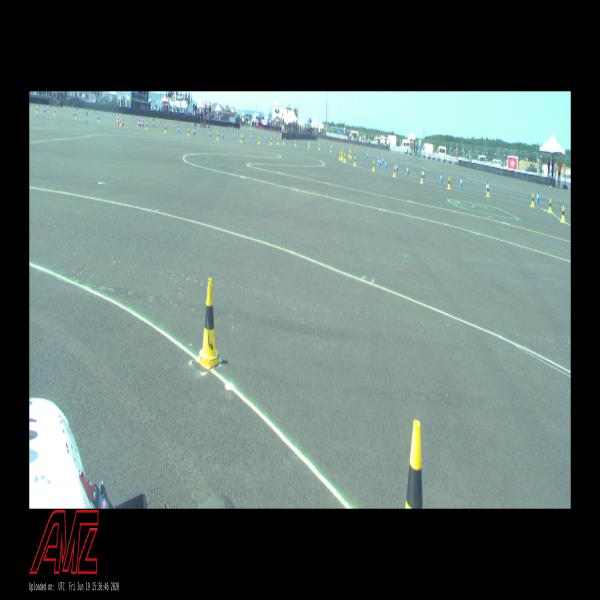blue_cone: (536, 191, 539, 202), (440, 172, 442, 183), (486, 181, 488, 192), (460, 177, 462, 187), (422, 168, 424, 178), (396, 162, 398, 172), (407, 165, 409, 174), (385, 160, 387, 168), (234, 132, 236, 140), (378, 157, 380, 165), (379, 158, 381, 166), (382, 156, 384, 164), (193, 128, 195, 135), (222, 131, 224, 138), (43, 106, 45, 113), (251, 134, 253, 140), (73, 110, 75, 116), (366, 152, 368, 158), (285, 138, 287, 144), (242, 134, 244, 140), (209, 130, 210, 137), (178, 126, 179, 133), (140, 120, 141, 127), (265, 136, 266, 141)
large_orange_cone: (121, 114, 124, 126), (141, 116, 144, 127), (117, 114, 119, 125), (138, 115, 140, 126)
yellow_cone: (196, 278, 222, 369), (405, 420, 423, 509), (561, 205, 565, 222), (548, 198, 552, 213), (530, 194, 534, 206), (420, 171, 423, 183), (372, 160, 375, 171), (353, 156, 356, 167), (487, 185, 490, 196), (393, 166, 396, 176), (448, 177, 450, 189), (341, 152, 344, 159), (339, 151, 341, 160), (146, 122, 148, 130), (165, 125, 167, 133), (188, 128, 190, 136), (217, 132, 219, 140), (258, 137, 260, 144), (330, 145, 332, 152), (54, 109, 56, 116), (283, 138, 285, 145), (36, 106, 38, 113), (348, 150, 350, 157), (295, 140, 297, 146), (277, 138, 279, 144), (308, 142, 310, 148), (350, 152, 352, 158), (270, 138, 272, 144), (76, 112, 78, 118), (241, 134, 242, 143), (344, 153, 345, 162), (319, 143, 320, 150), (120, 119, 121, 126)
